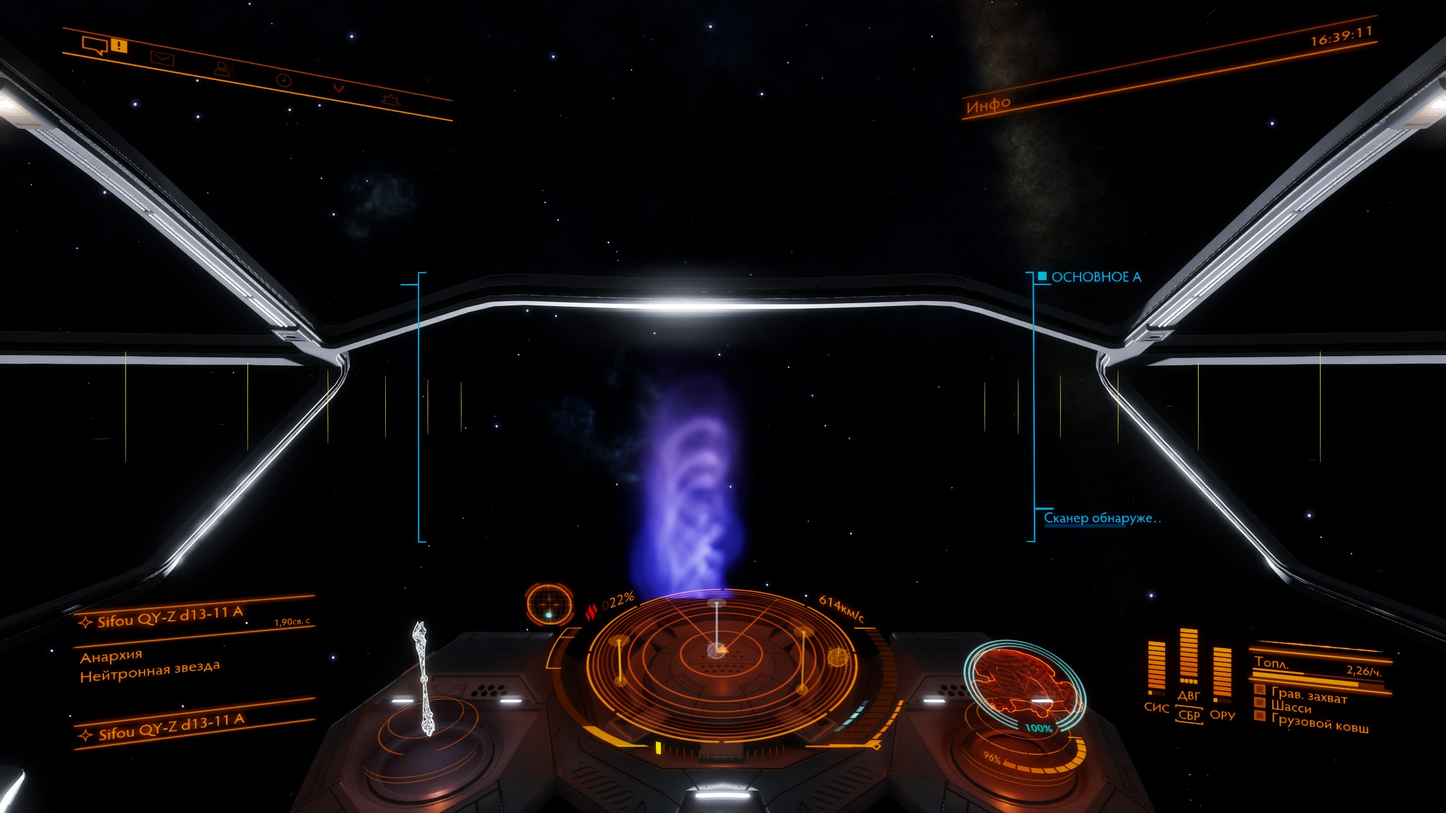core: (522, 387, 1111, 813)
jetcone: (648, 421, 728, 598), (1306, 130, 1405, 204)
